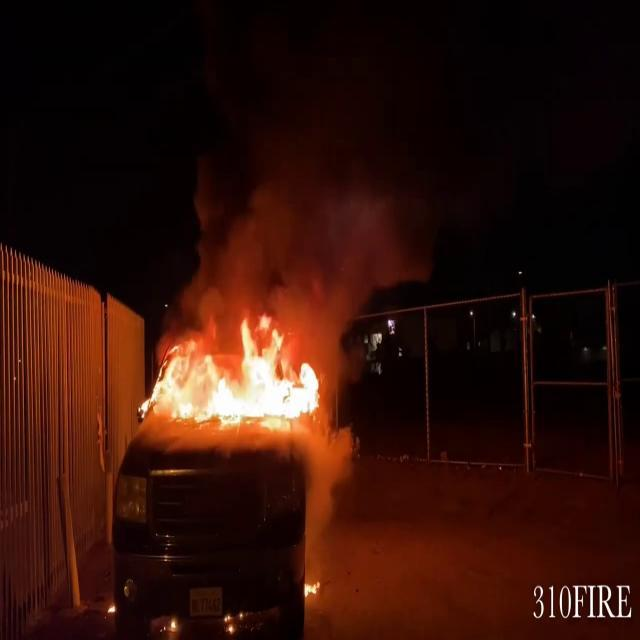Fire: (136, 312, 332, 438)
Smoke: (172, 126, 421, 344)
